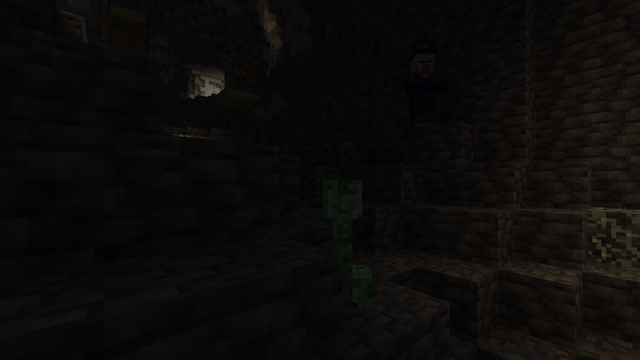creepers: (311, 173, 373, 309)
sorcieres: (405, 47, 437, 130)
